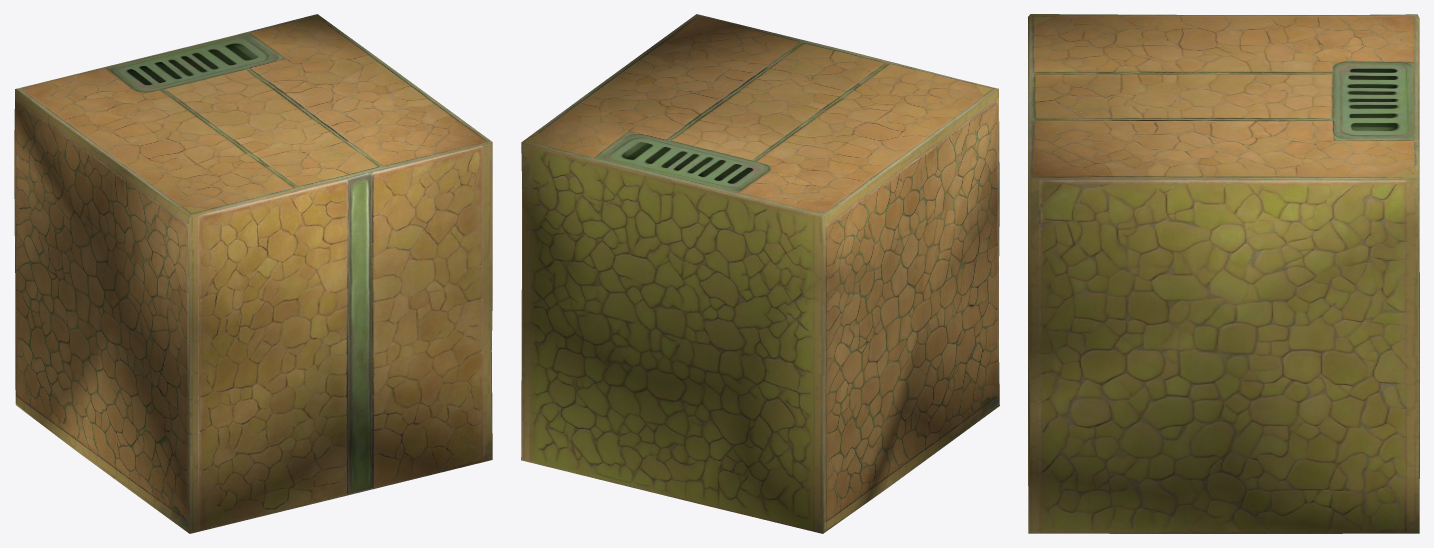
Rendered from Tile.glb.
3 renders of one model, left to right at view 1: azimuth 30°, elevation 25°; view 2: azimuth 150°, elevation 25°; view 3: azimuth 270°, elevation 25°, orthographic. The views are drawn at different scales.
Parts seen in each view (by area): view 1: Mesh1; view 2: Mesh1; view 3: Mesh1.
Boxes of the visible parts, x1,y1,x2,y2 form: Mesh1: (14,14,492,533); Mesh1: (521,14,999,533); Mesh1: (1028,14,1419,533).
Size of the model in its own units: 2 by 2 by 2.
Materials: 1 (1 with a texture image).
